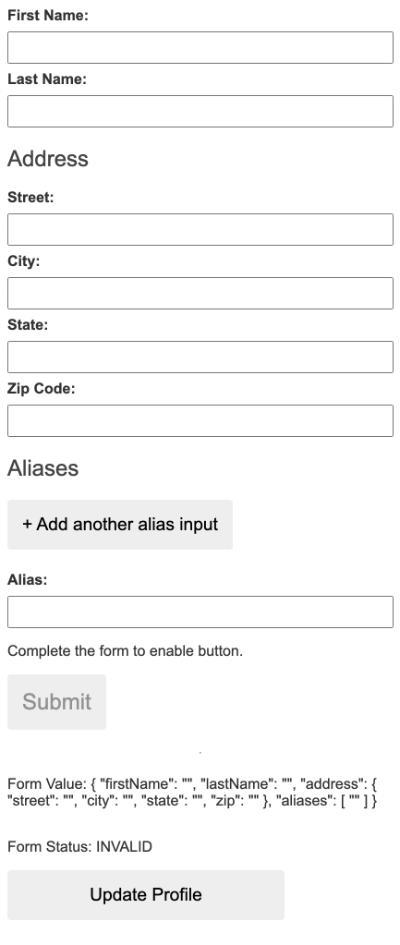button: (6, 498, 236, 552), (7, 675, 109, 731)
input: (6, 868, 287, 923), (7, 29, 396, 65), (7, 93, 396, 129), (6, 276, 395, 312), (7, 595, 397, 630), (7, 212, 396, 247), (6, 341, 396, 375), (6, 405, 396, 439)
label: (8, 645, 244, 659), (9, 148, 90, 170), (8, 5, 92, 25), (8, 459, 80, 479), (7, 71, 89, 88), (7, 381, 79, 398), (8, 191, 54, 206), (7, 573, 49, 589), (8, 318, 50, 332), (7, 255, 42, 271)
